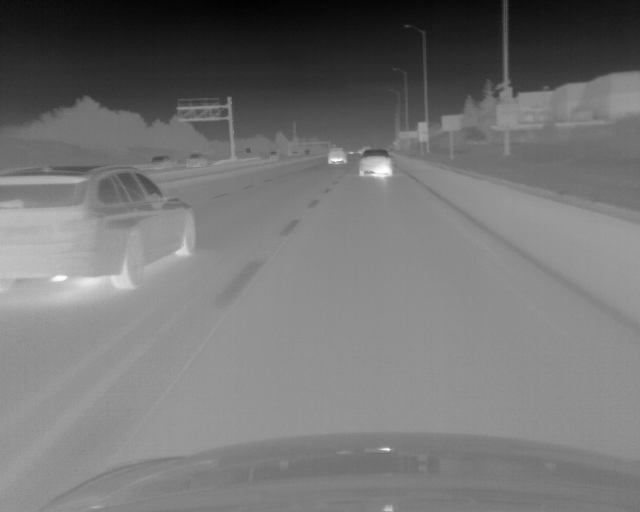car: (1, 162, 194, 294), (359, 148, 393, 177), (327, 147, 346, 164), (151, 155, 175, 164)
